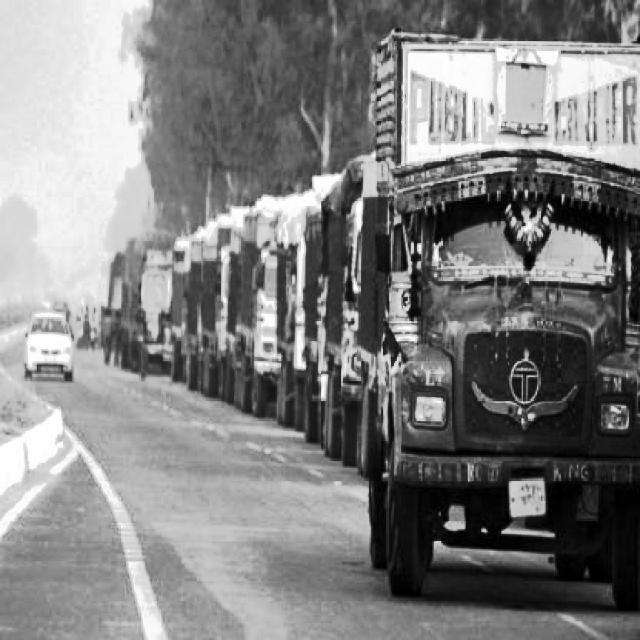HCV: (391, 63, 640, 589)
